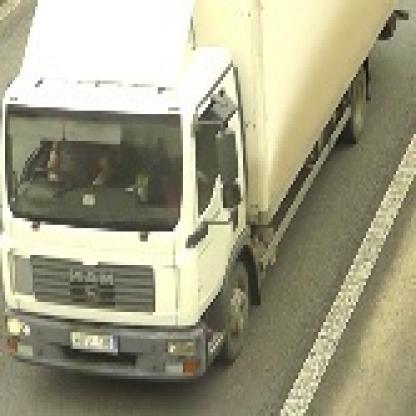truck: (1, 1, 402, 377)
